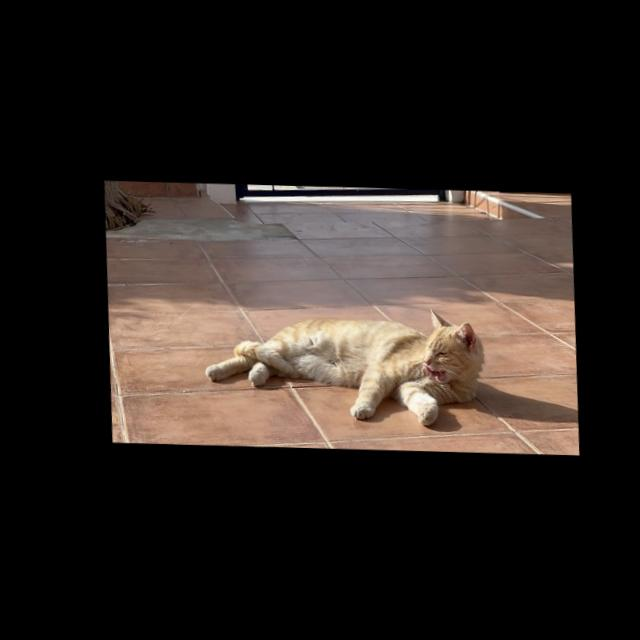animals: (193, 302, 483, 429)
